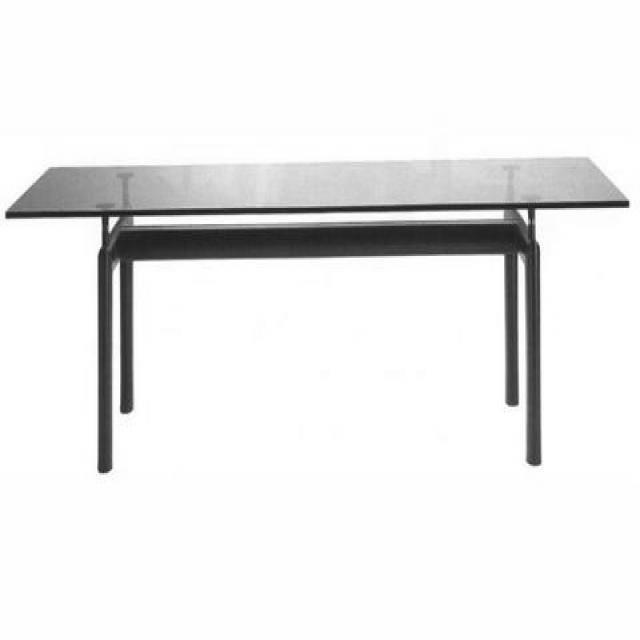table: (4, 158, 628, 468)
